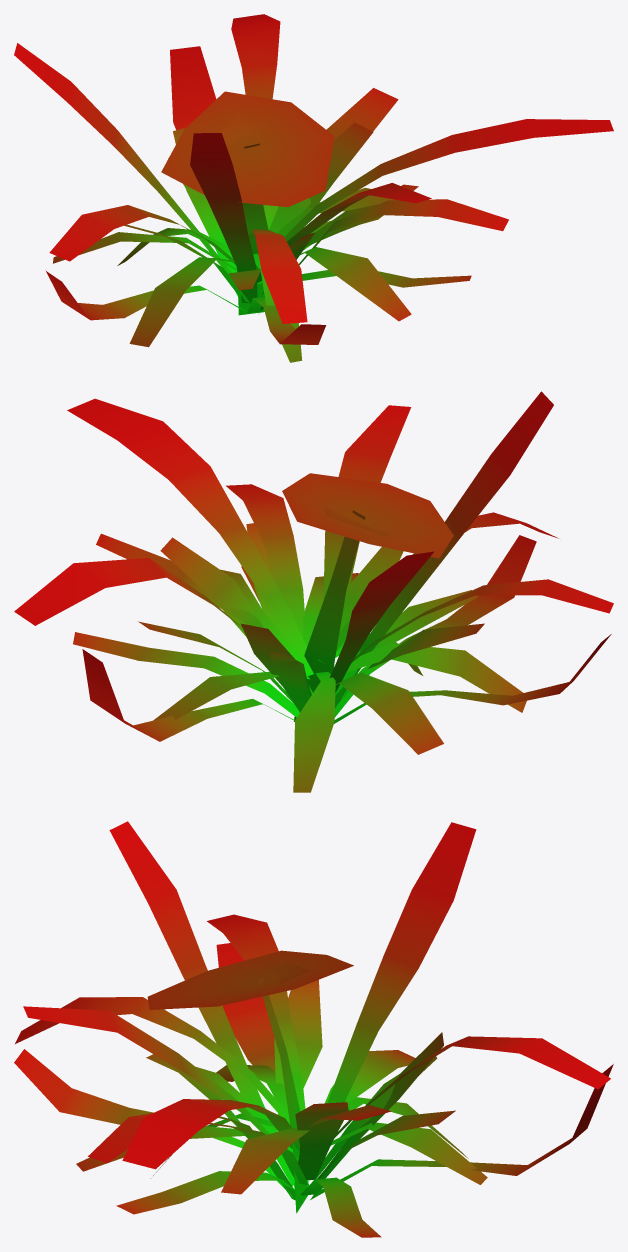
The model's file is Var3_LOD2.fbx.
The picture shows the model from 3 angles, top to bottom: view 1: azimuth 30°, elevation 25°; view 2: azimuth 150°, elevation 25°; view 3: azimuth 270°, elevation 25°; orthographic projection. The views are drawn at different scales.
Visible parts, largest first — view 1: _3b82_Var3_LOD2; view 2: _3b82_Var3_LOD2; view 3: _3b82_Var3_LOD2.
Part boxes in pixels (left/top/right/bottom): _3b82_Var3_LOD2: left=14, top=14, right=613, bottom=362; _3b82_Var3_LOD2: left=14, top=391, right=613, bottom=792; _3b82_Var3_LOD2: left=14, top=821, right=613, bottom=1237.
Bounding box in the file's own units: 44.21 × 21.93 × 38.84.
